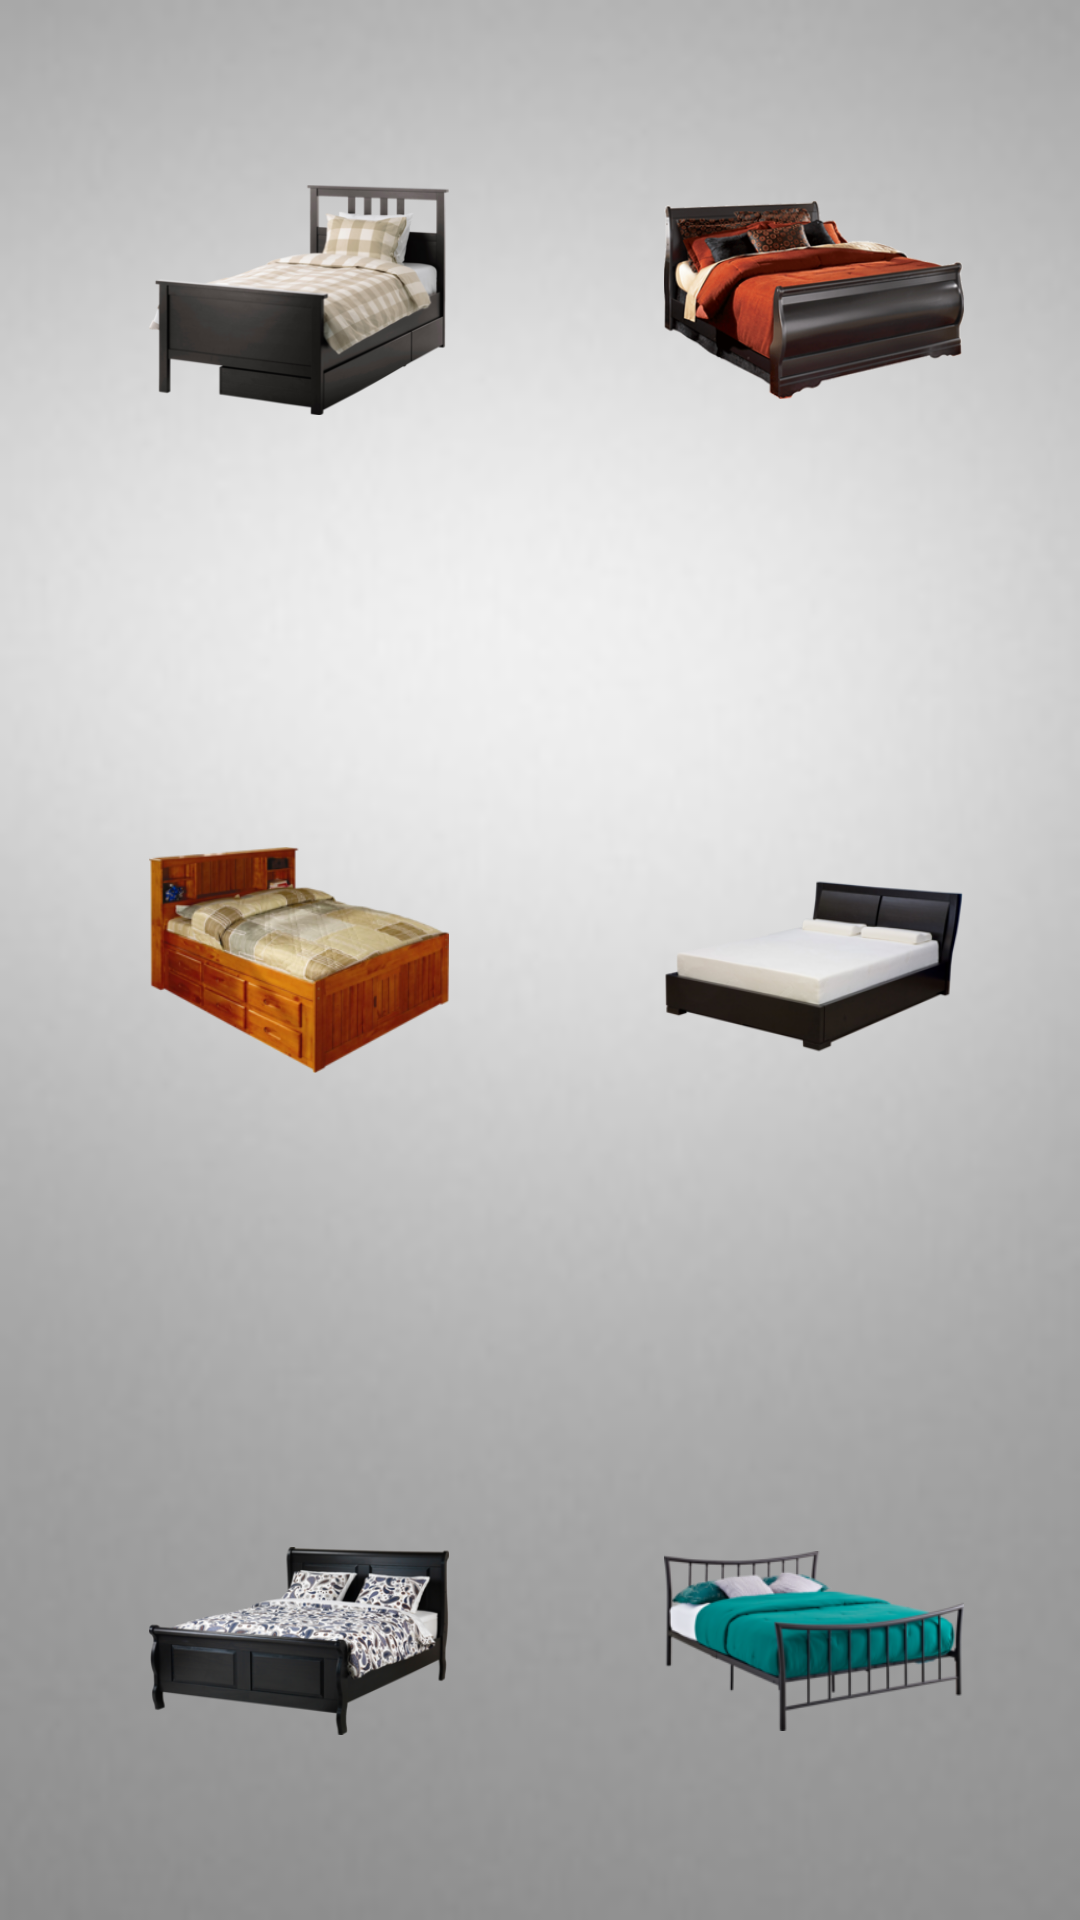

Where icons sit on this 1080px×1920px app screen, as (x1, y1, x2, y2):
bed: (149, 185, 449, 450), (664, 201, 964, 450), (664, 810, 964, 1110), (149, 847, 449, 1110), (149, 1547, 449, 1735), (664, 1551, 964, 1731)
